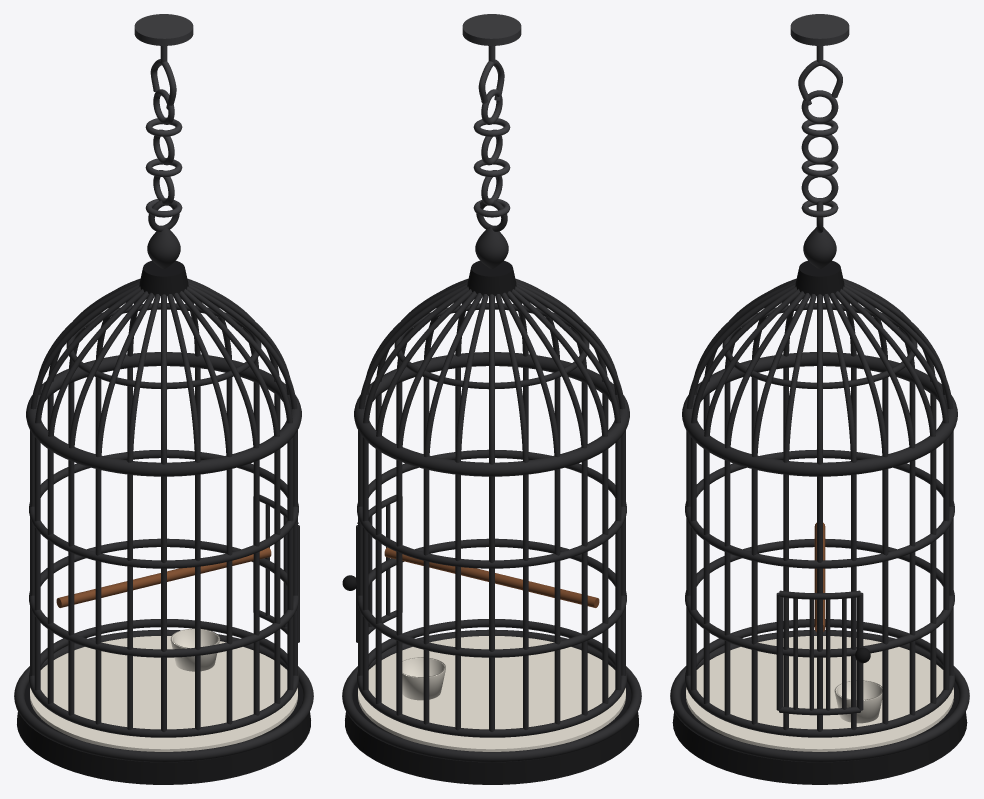
Rendered from hanging-cage.glb.
3 views of the same model, side by side, from view 1: azimuth 30°, elevation 25°; view 2: azimuth 150°, elevation 25°; view 3: azimuth 270°, elevation 25° (orthographic).
Parts seen in each view (by area): view 1: floorPan, tray, hoop4, trayLip, hoop1, hoop2, hoop3, perch, bar11, bar7, bar6, bar12 (+30 smaller); view 2: floorPan, tray, hoop4, trayLip, hoop1, hoop2, hoop3, perch, bar15, bar19, bar14, bar20 (+30 smaller); view 3: floorPan, tray, hoop4, trayLip, hoop1, hoop3, hoop2, bar3, bar23, bar4, bar22, domeHoop (+40 smaller).
Part boxes in pixels (box(x1,y1,x2,y2)): floorPan: box(30, 636, 297, 751); tray: box(17, 658, 310, 784); hoop4: box(26, 352, 301, 476); trayLip: box(14, 629, 313, 762); hoop1: box(29, 619, 298, 737); hoop2: box(29, 538, 298, 657); hoop3: box(29, 449, 298, 568); perch: box(56, 547, 271, 607); bar11: box(95, 469, 101, 724); bar7: box(226, 469, 232, 724); bar6: box(253, 460, 259, 715); bar12: box(68, 460, 74, 715); floorPan: box(358, 636, 625, 751); tray: box(345, 658, 638, 784); hoop4: box(354, 352, 629, 476); trayLip: box(342, 629, 641, 762); hoop1: box(357, 619, 626, 737); hoop2: box(357, 538, 626, 657); hoop3: box(357, 449, 626, 568); perch: box(384, 547, 599, 607); bar15: box(554, 469, 560, 724); bar19: box(423, 469, 429, 724); bar14: box(581, 460, 587, 715); bar20: box(396, 460, 402, 715); floorPan: box(686, 636, 953, 751); tray: box(672, 658, 967, 784); hoop4: box(682, 352, 957, 476); trayLip: box(670, 629, 969, 762); hoop1: box(685, 619, 954, 737); hoop3: box(685, 449, 954, 568); hoop2: box(685, 539, 954, 657); bar3: box(751, 469, 757, 724); bar23: box(882, 469, 888, 724); bar4: box(724, 460, 730, 715); bar22: box(909, 460, 915, 715); domeHoop: box(722, 303, 917, 388).
Size of the model in its own units: 0.458 by 1.17 by 0.458.
